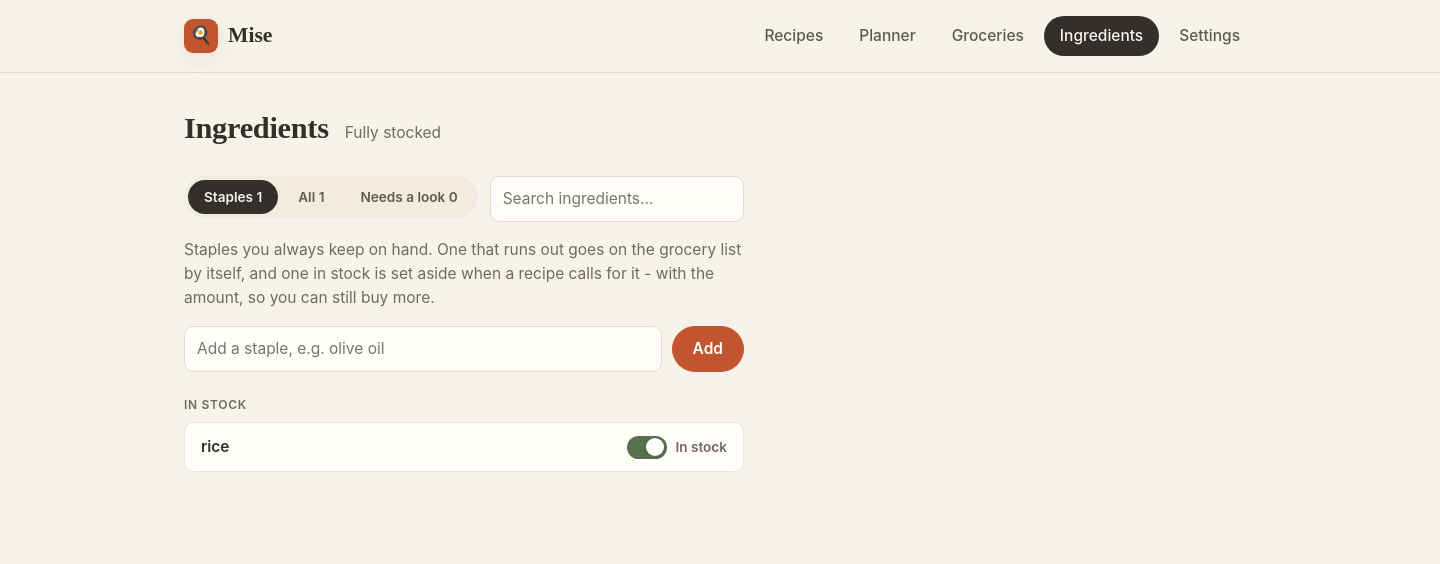
Test case: IngredientsPage: staples › keeps the staples on screen when a refresh fails
The width and height of the screenshot is (1440, 564).
Check: the link "rice" is shown, box [201, 437, 230, 456]
Step 1. Click the button "In stock" → (677, 447), box [627, 436, 727, 459]
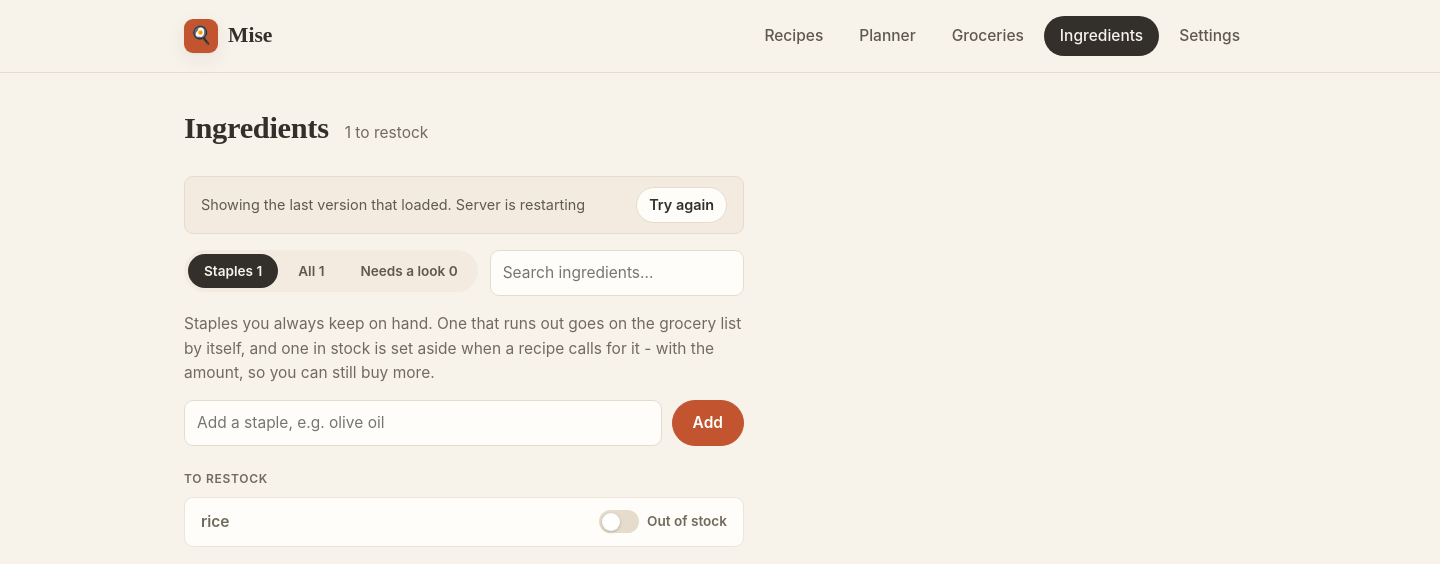
Check: the link "rice" is shown, box [201, 512, 230, 531]
Check: the text "Showing the last version that loaded. Server is restarting" is shown, box [201, 194, 624, 216]
